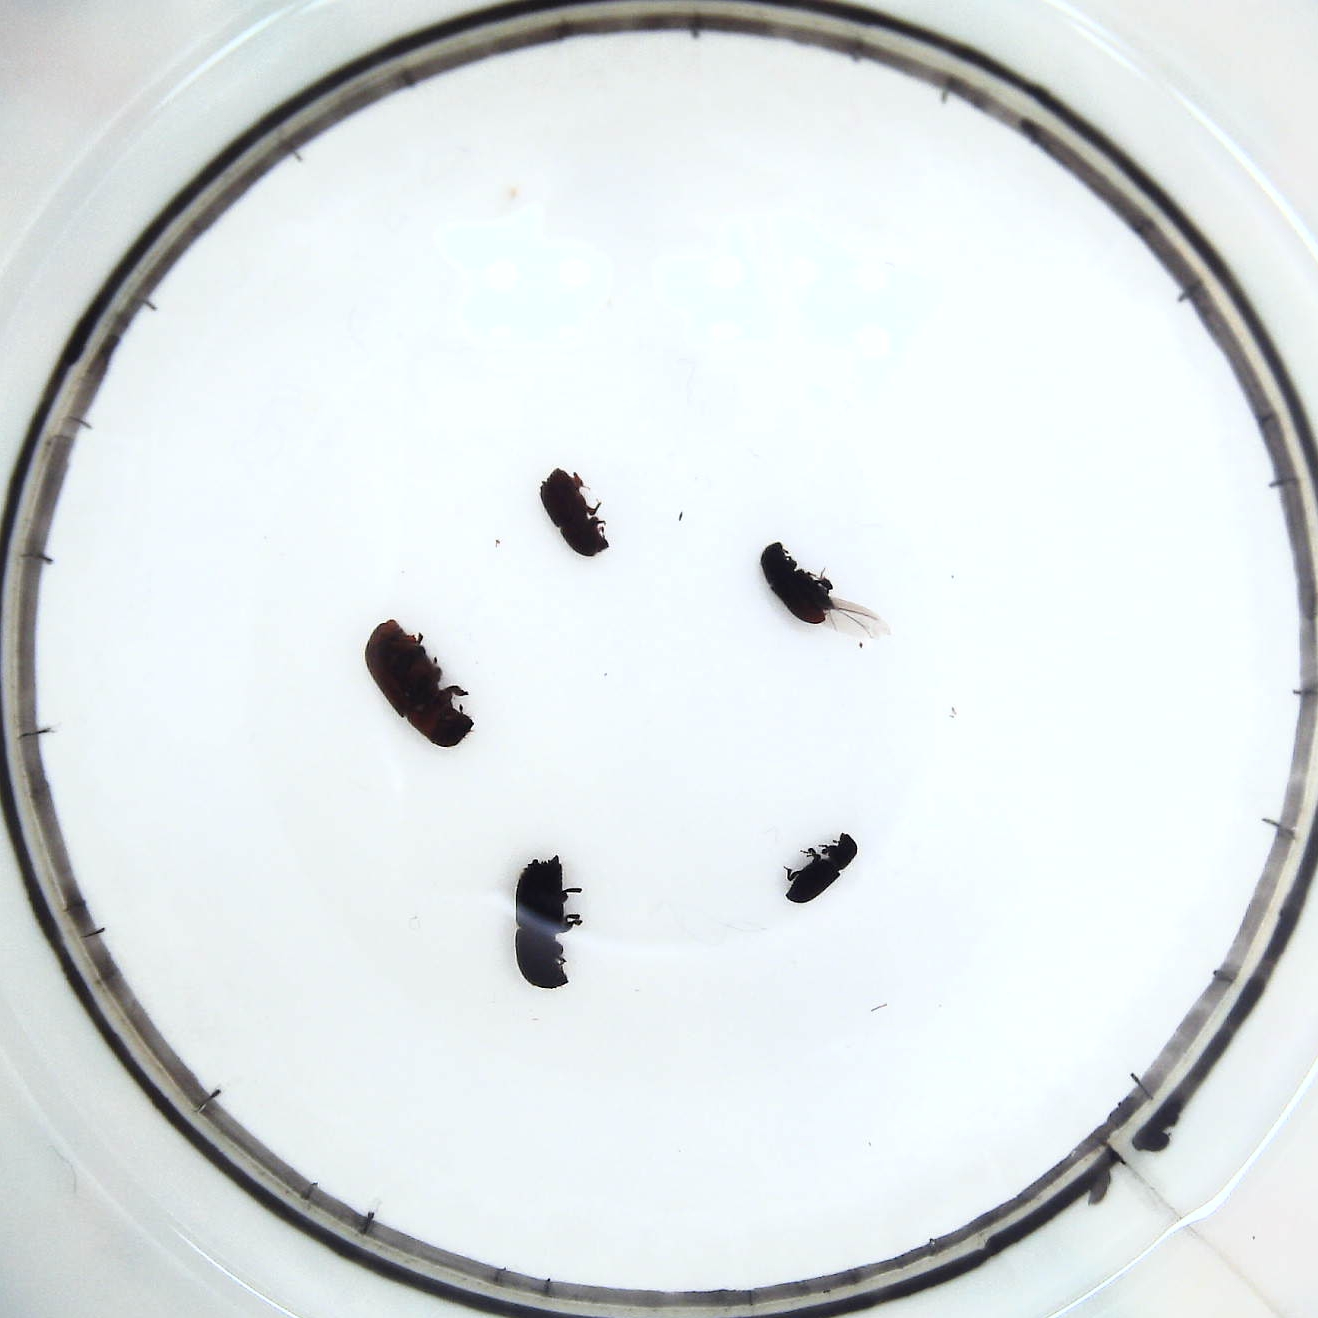Boerner: (509, 852, 590, 996)
Leconte: (361, 613, 478, 754)
armandi: (756, 537, 880, 638)
coleoptera: (783, 827, 865, 910)
linnaeus: (536, 463, 612, 561)
